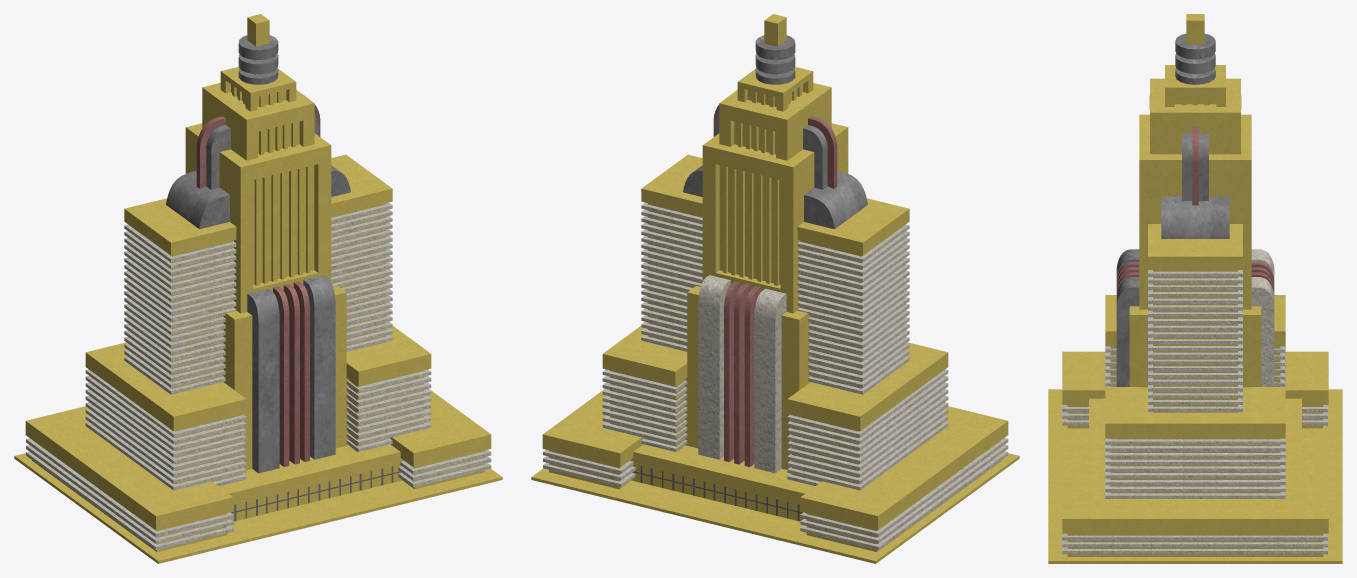
Rendered from template_skyscraper.obj.
3 renders of one model, left to right at view 1: azimuth 30°, elevation 25°; view 2: azimuth 150°, elevation 25°; view 3: azimuth 270°, elevation 25°, orthographic. The views are drawn at different scales.
Visible parts, largest first — view 1: template_skyscraper; view 2: template_skyscraper; view 3: template_skyscraper.
Boxes of the visible parts, <box> form: template_skyscraper: <box>14,14,502,563</box>; template_skyscraper: <box>531,14,1019,563</box>; template_skyscraper: <box>1048,14,1342,563</box>.
Bounding box in the file's own units: 38.21 × 47.76 × 27.64.
